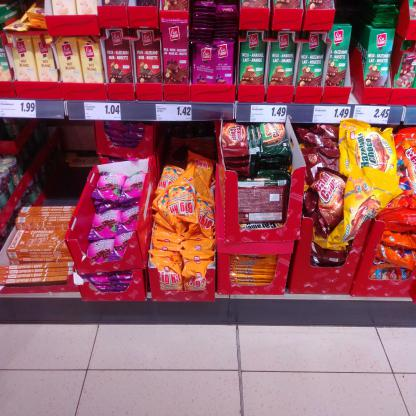prtg: (354, 106, 391, 125), (85, 103, 122, 121), (313, 107, 352, 124), (1, 101, 37, 119), (251, 106, 288, 123), (157, 105, 193, 122)
